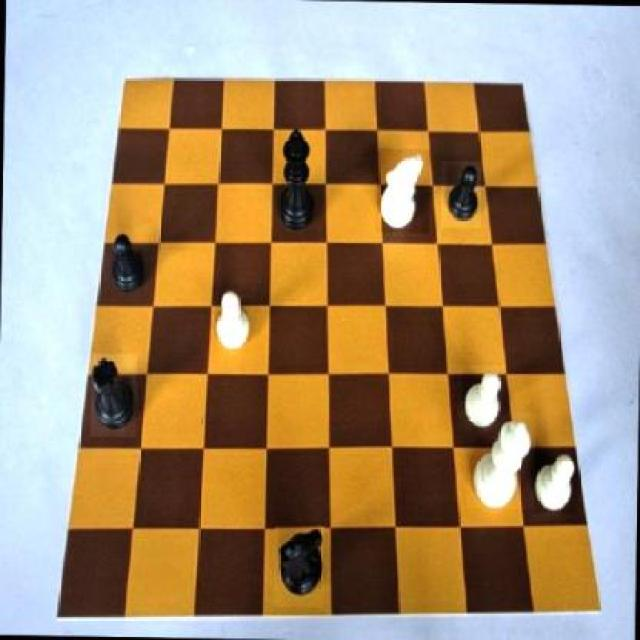black-bishop: (276, 121, 320, 242)
black-king: (274, 524, 324, 608)
black-knight: (108, 223, 150, 299), (440, 160, 481, 228)
black-queen: (91, 354, 137, 438)
white-bishop: (468, 411, 535, 508)
white-king: (377, 149, 431, 234)
white-knight: (457, 366, 505, 434), (532, 456, 578, 514), (214, 284, 251, 354)
